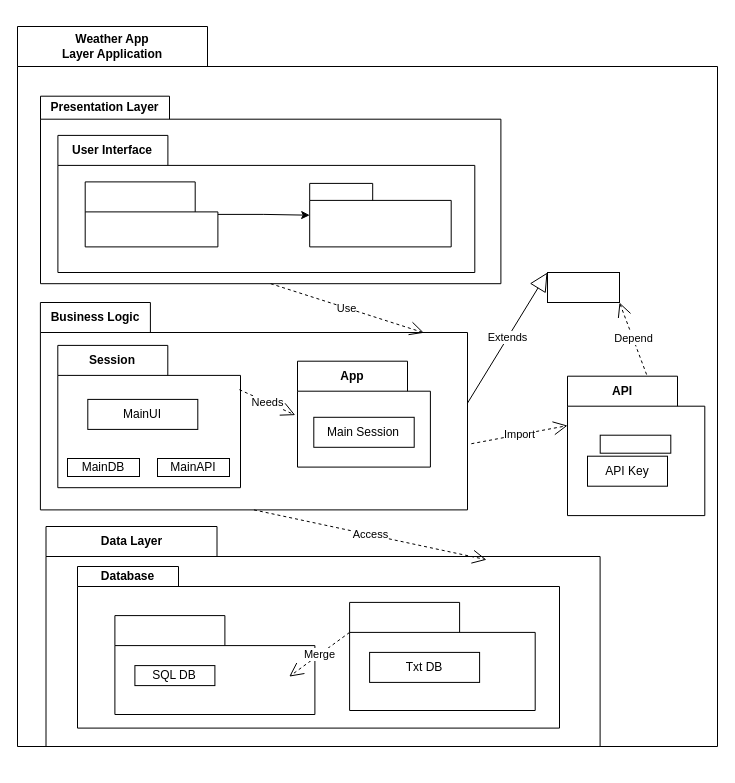
Image size: 735x783. Some labels were removed from this diagram. Here are the shapes that lost their labels. From the top down, the centre of each, then its label:
point (151, 214): Desktop App
point (380, 214): Terminal
point (583, 287): «interface»
point (635, 443): JSON file
point (214, 664): SQL
point (442, 655): .txt
